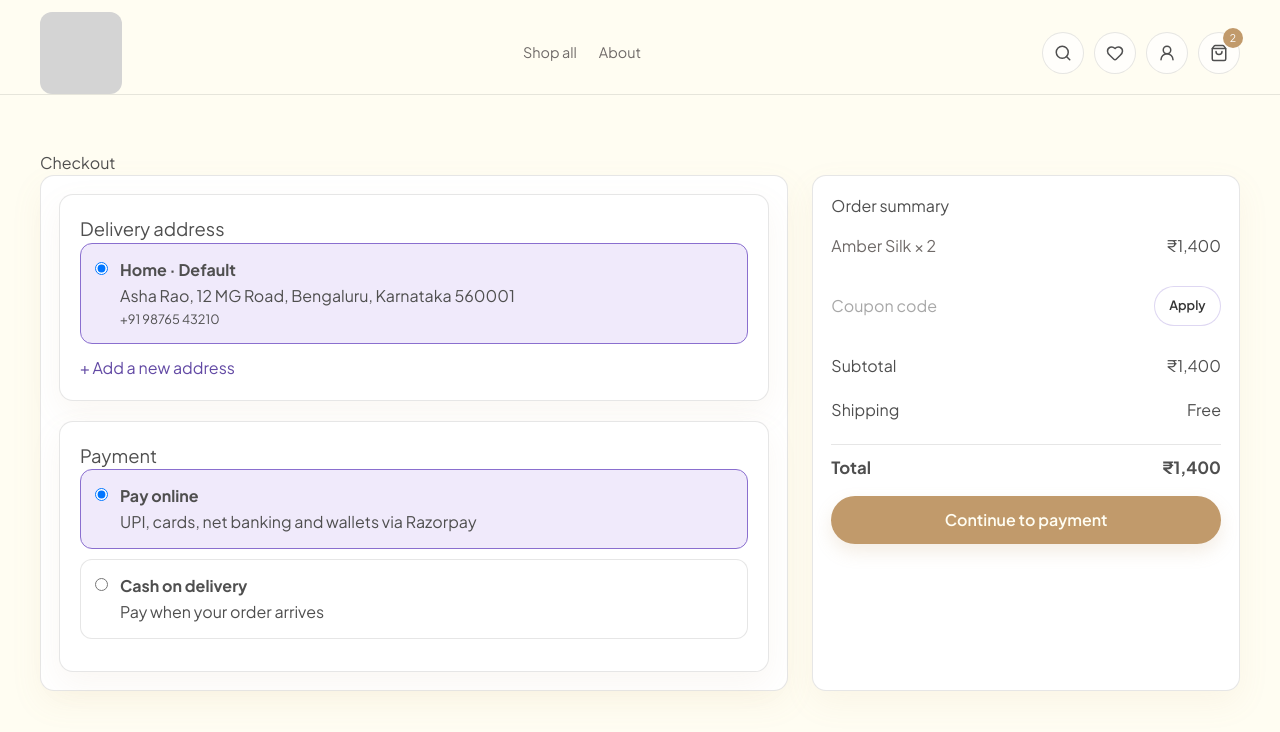
Test: checkout › does not show success when verification fails
This screenshot has width=1280, height=732.
Click the button "Continue to payment" at (1026, 520), box [831,496,1221,544]
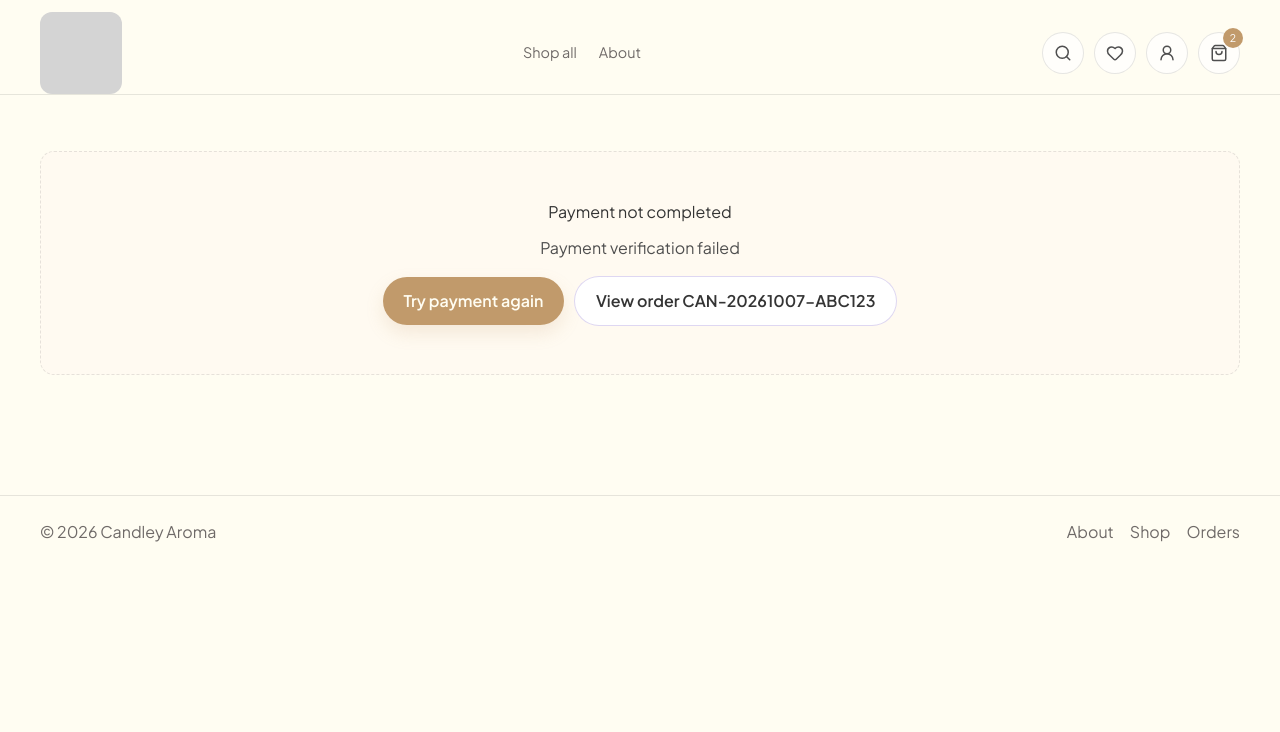
Now the heading "Payment not completed" is shown, box [548,200,732,224]
Now the text "Payment verification failed" is shown, box [540,236,740,260]
